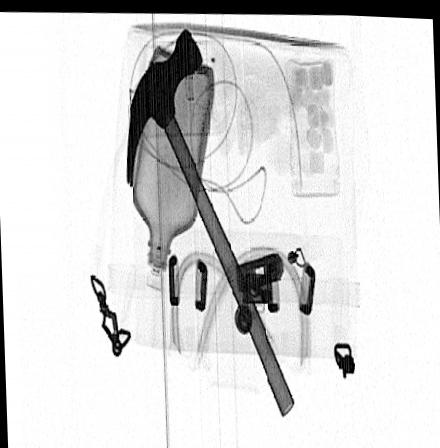Hammer: (124, 25, 293, 413)
